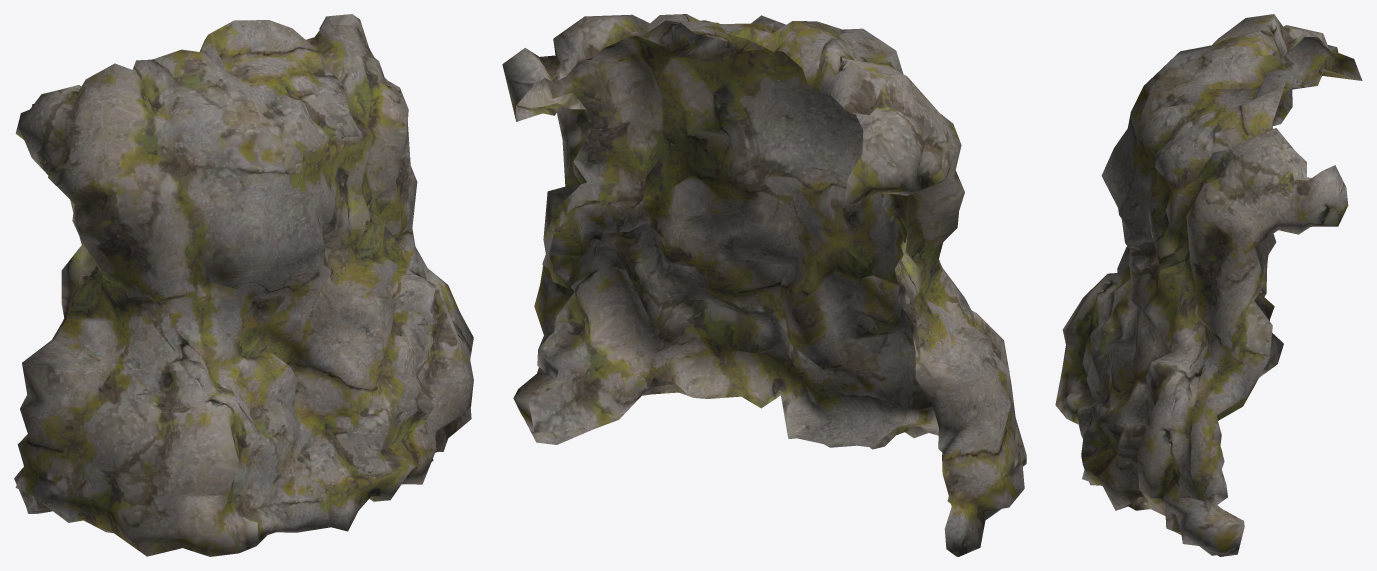
3 views of the same model, side by side, from view 1: azimuth 30°, elevation 25°; view 2: azimuth 150°, elevation 25°; view 3: azimuth 270°, elevation 25° (orthographic). The views are drawn at different scales.
Visible parts, largest first — view 1: Cube.079; view 2: Cube.079; view 3: Cube.079.
Part boxes in pixels (left/top/right/bottom): Cube.079: left=14, top=14, right=473, bottom=556; Cube.079: left=502, top=14, right=1026, bottom=556; Cube.079: left=1055, top=14, right=1362, bottom=556.
Bounding box in the file's own units: 15.6 × 14.81 × 9.99.
1 material, 1 textured.
